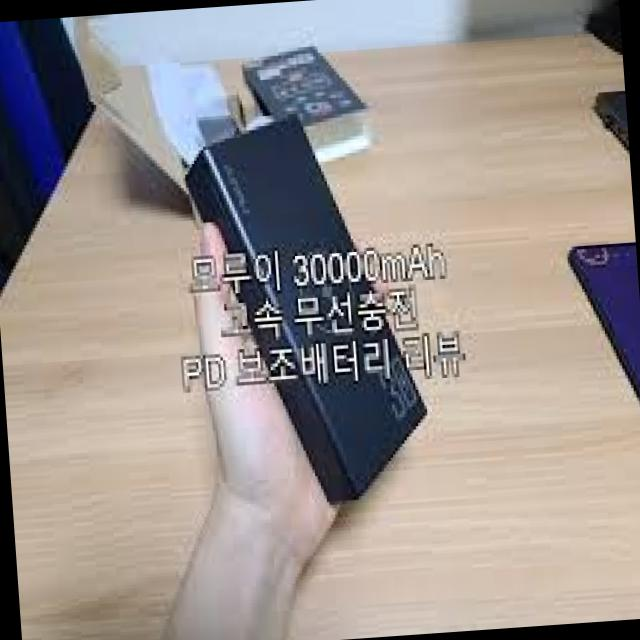power_bank: (186, 112, 436, 514)
